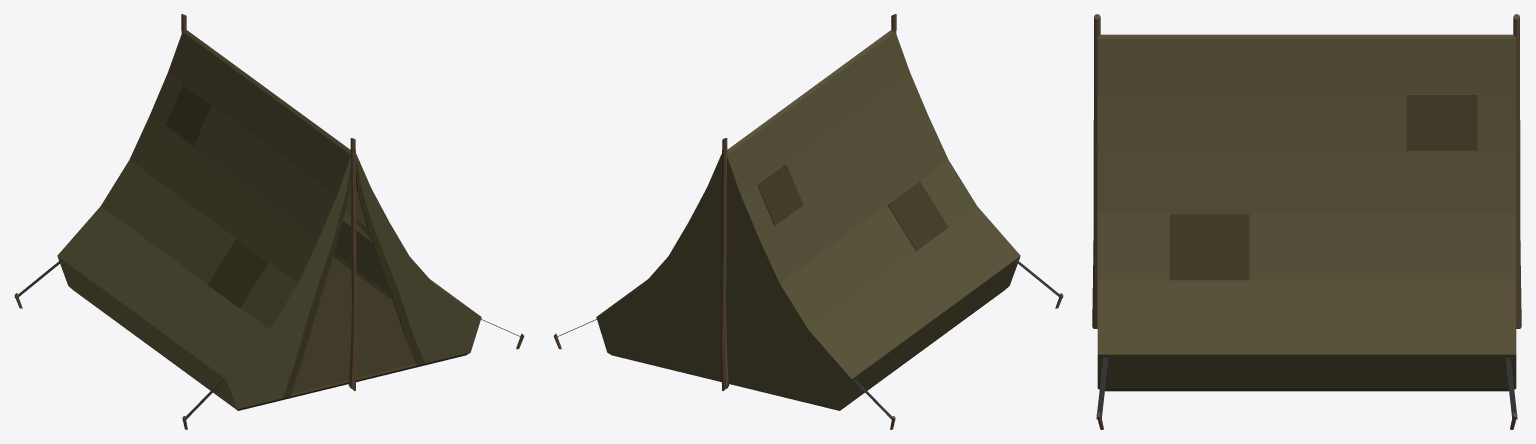
Rendered from custom_tent.glb.
The picture shows the model from 3 angles, left to right: view 1: azimuth 30°, elevation 25°; view 2: azimuth 150°, elevation 25°; view 3: azimuth 270°, elevation 25°; orthographic projection. The views are drawn at different scales.
Visible parts, largest first — view 1: Tent; view 2: Tent; view 3: Tent.
Part boxes in pixels (x1,y1,x2,y2): Tent: (14, 14, 524, 429); Tent: (553, 14, 1063, 429); Tent: (1092, 14, 1521, 429).
Size of the model in its own units: 14.58 by 10.32 by 12.81.
